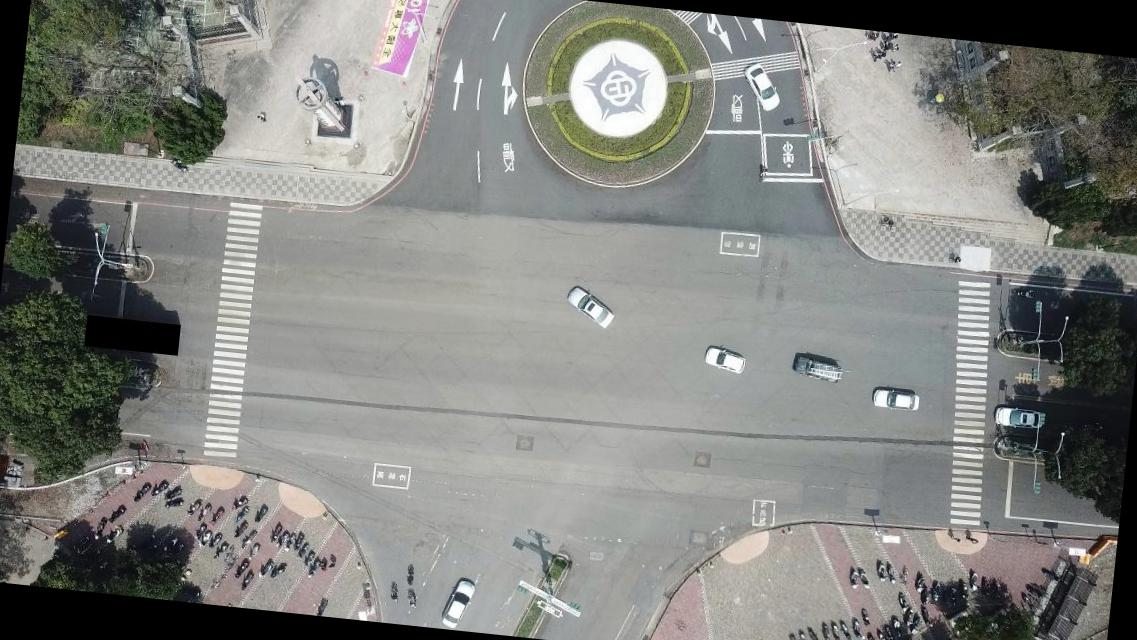vehicle: (562, 284, 618, 332), (739, 62, 786, 113), (440, 576, 476, 630), (991, 404, 1046, 432), (702, 346, 747, 378), (793, 356, 846, 383), (870, 388, 922, 412)
